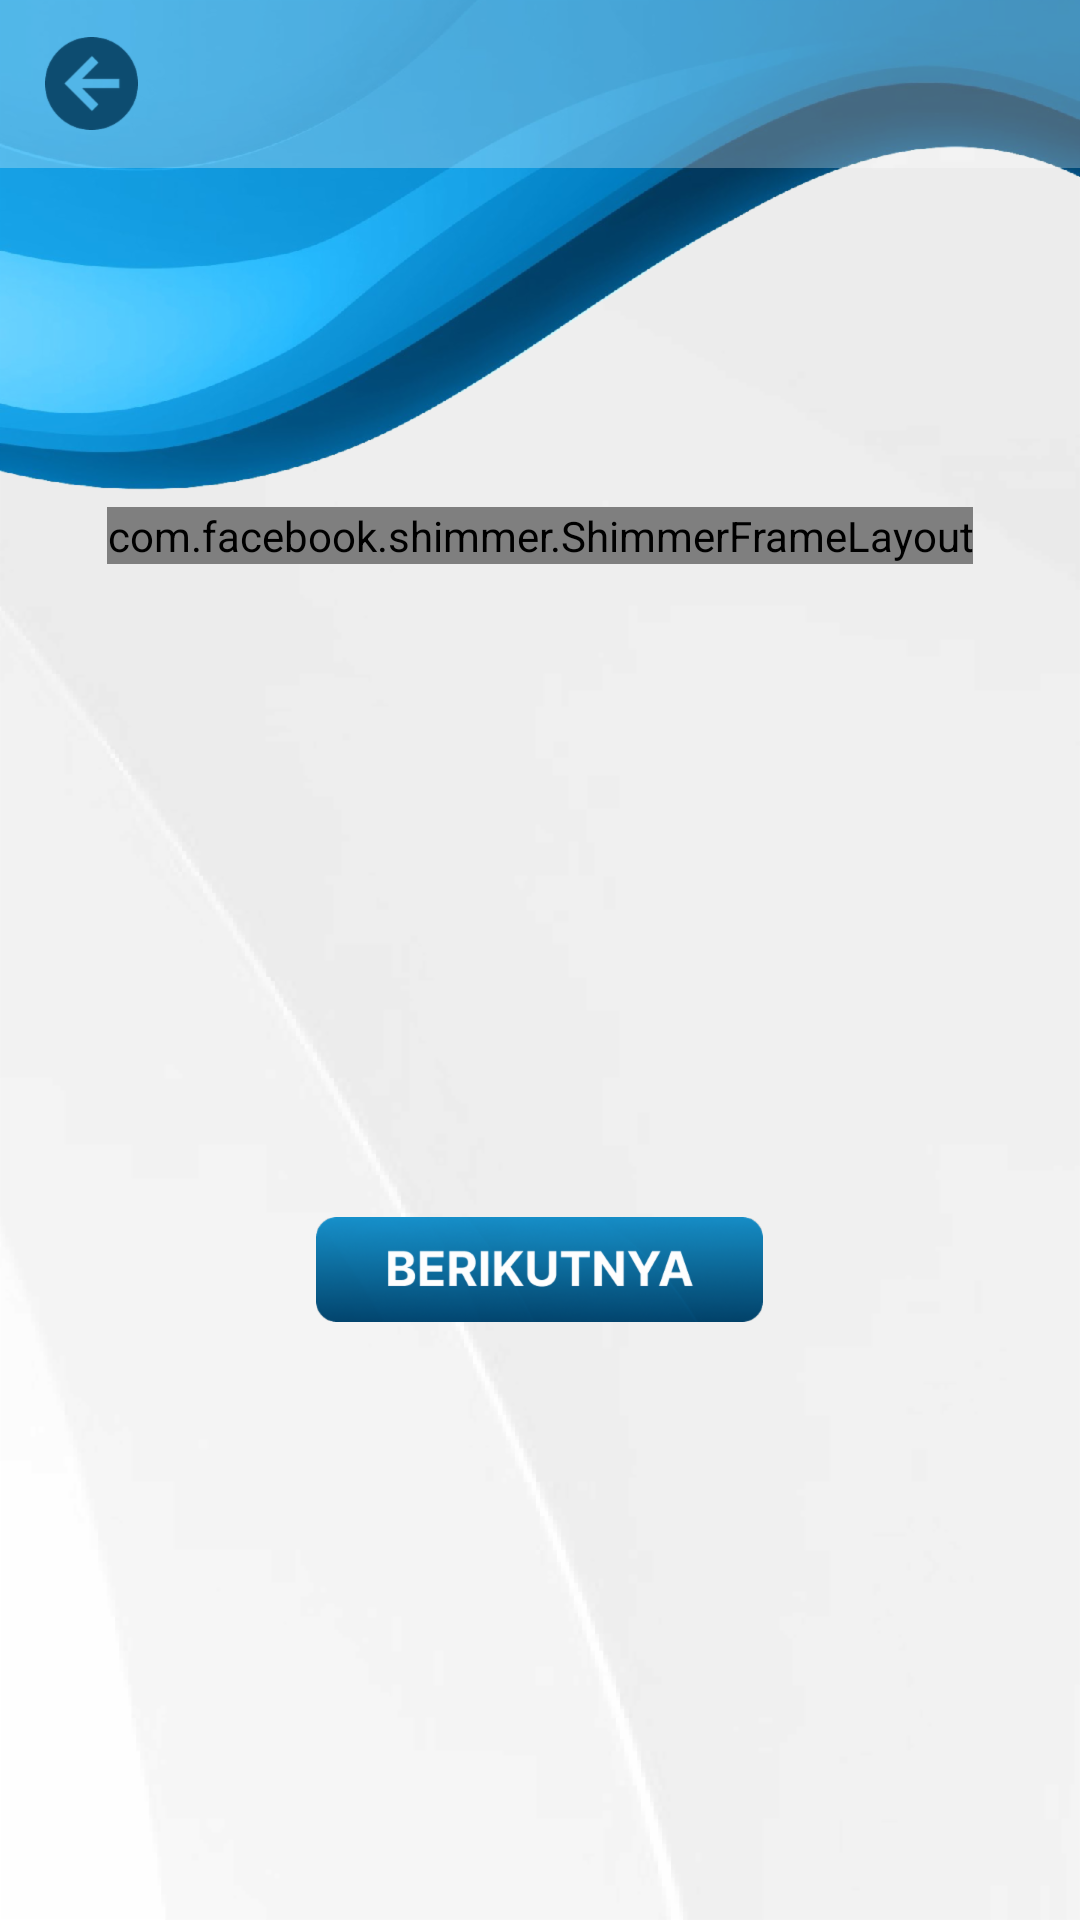

Screen size 1080px x 1920px. Icon name, then its center in pixels as point (x, y):
btnback: point (91, 83)
